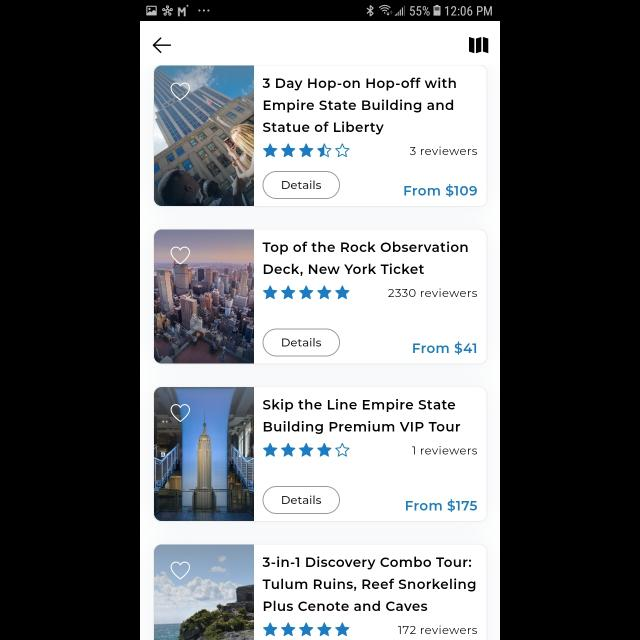icon: (262, 442, 350, 458), (262, 286, 350, 300), (264, 623, 350, 637), (263, 144, 349, 158), (170, 404, 190, 422), (172, 562, 190, 580), (172, 247, 190, 265), (172, 83, 190, 101), (469, 38, 488, 54), (153, 38, 171, 54)
image: (154, 66, 254, 206), (154, 387, 254, 521), (154, 230, 254, 364), (156, 544, 254, 640)
text: (262, 556, 476, 612), (262, 78, 466, 134), (262, 242, 468, 276), (263, 400, 461, 434), (407, 499, 478, 513), (404, 185, 476, 198), (388, 288, 477, 298), (414, 341, 476, 355), (410, 146, 478, 156), (411, 446, 477, 456), (398, 626, 478, 634)
textbutton: (262, 328, 340, 358), (263, 170, 341, 200), (262, 486, 340, 514)
uppertaskbar: (140, 1, 500, 22)
